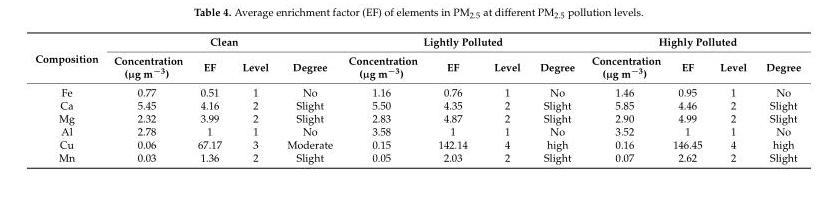table: (34, 34, 800, 163)
table column: (339, 34, 427, 163), (105, 34, 189, 163), (582, 34, 666, 163), (34, 34, 105, 163), (277, 34, 339, 163), (427, 34, 480, 163), (529, 34, 582, 163), (480, 34, 529, 163), (231, 34, 277, 163), (710, 34, 755, 163), (755, 34, 800, 163), (666, 34, 710, 163), (189, 34, 231, 163)
table column header: (34, 34, 800, 83)
table row: (34, 50, 800, 83), (34, 34, 800, 50), (34, 83, 800, 98), (34, 98, 800, 111), (34, 111, 800, 124), (34, 124, 800, 137), (34, 137, 800, 150), (34, 150, 800, 163)
table spanning cell: (339, 34, 582, 50), (105, 34, 339, 50), (582, 34, 800, 50), (34, 34, 105, 83)
